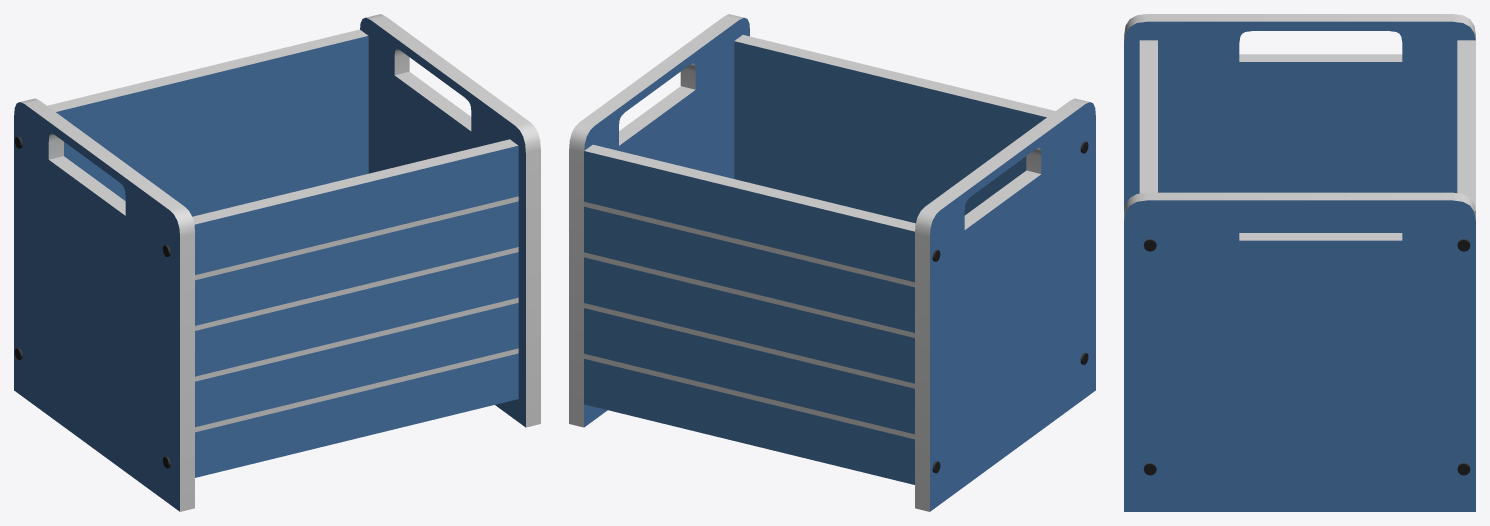
File: Caja-3.FBX
3 views of the same model, side by side, from view 1: azimuth 30°, elevation 25°; view 2: azimuth 150°, elevation 25°; view 3: azimuth 270°, elevation 25° (orthographic). The views are drawn at different scales.
Parts seen in each view (by area): view 1: Caja002; view 2: Caja002; view 3: Caja002.
Part boxes in pixels (x1,y1,x2,y2): Caja002: (14,14,540,511); Caja002: (569,14,1095,511); Caja002: (1124,14,1475,511).
Size of the model in its own units: 68.83 by 54.3 by 53.06.
